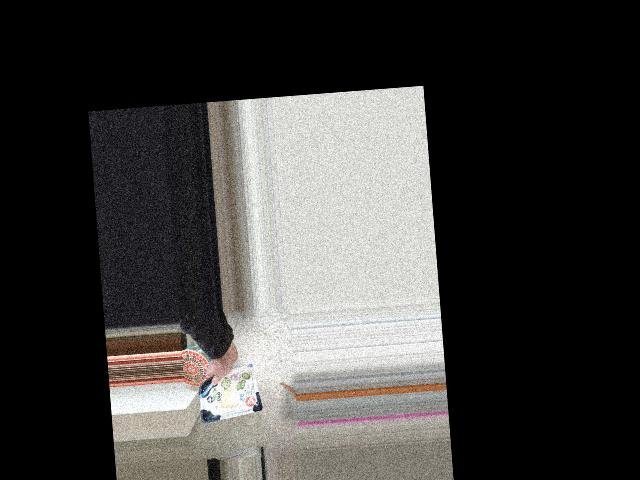cheese: (207, 354, 260, 406)
